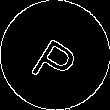P_NE: (26, 24, 84, 86)
